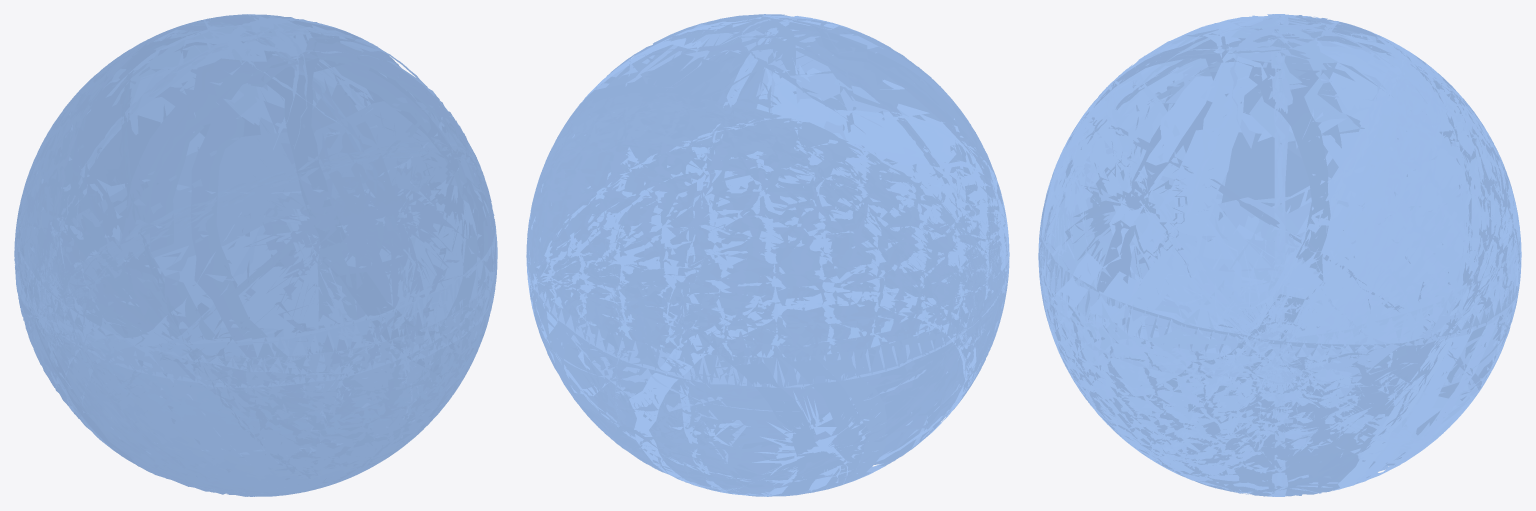
File: riser.glb
The picture shows the model from 3 angles, left to right: view 1: azimuth 30°, elevation 25°; view 2: azimuth 150°, elevation 25°; view 3: azimuth 270°, elevation 25°; orthographic projection.
Visible parts, largest first — view 1: riser; view 2: riser; view 3: riser.
Boxes of the visible parts, x1,y1,x2,y2 form: riser: (14,14,497,496); riser: (526,14,1009,496); riser: (1038,14,1521,496).
Bounding box in the file's own units: 2 × 2 × 2.
